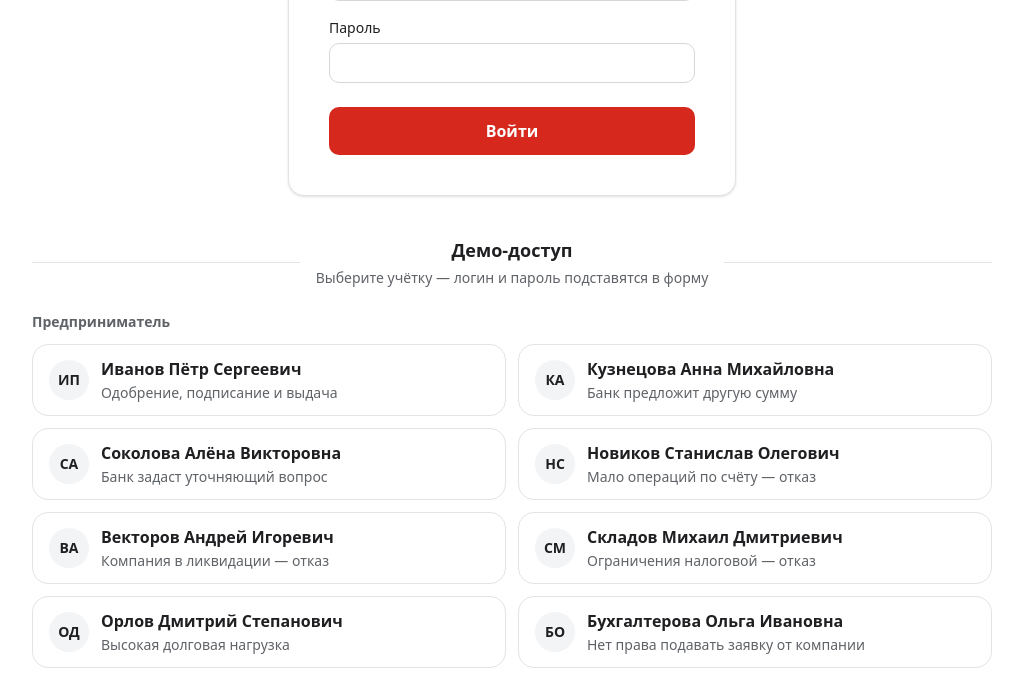
экран входа › «Выйти» появляется сразу после входа и уводит на экран входа
(page scrolled)
Expected: the button "Выйти" is not shown
Click the button "КА Кузнецова Анна Михайловна Банк предложит другую сумму": (755, 380) x1=518 y1=344 x2=992 y2=416
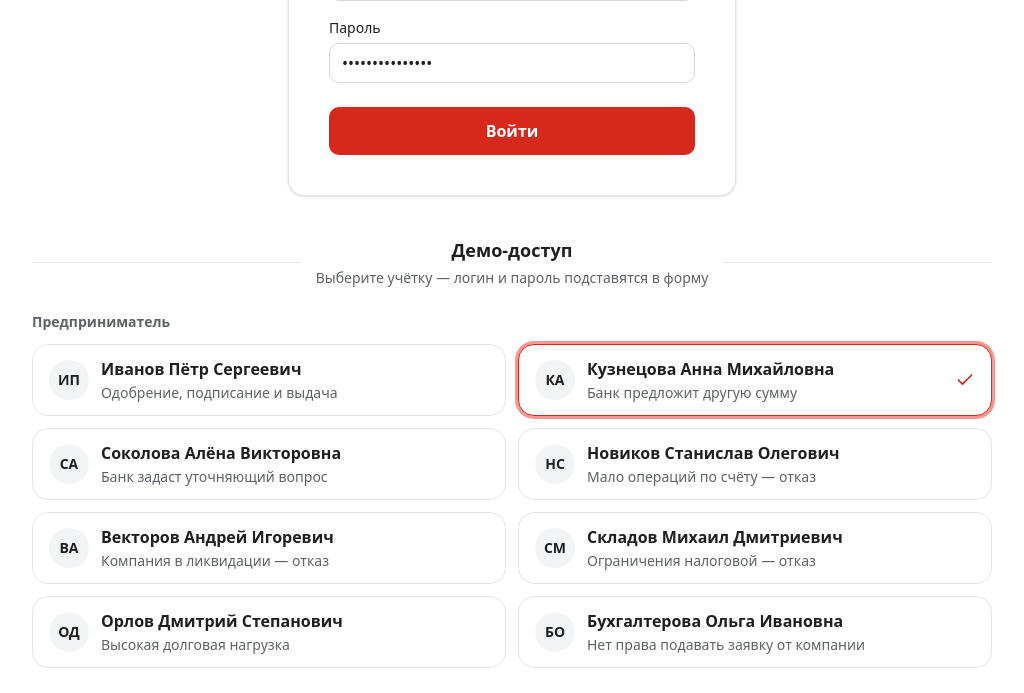
Click the button "Войти": (512, 131) x1=329 y1=107 x2=695 y2=155
(page scrolled)
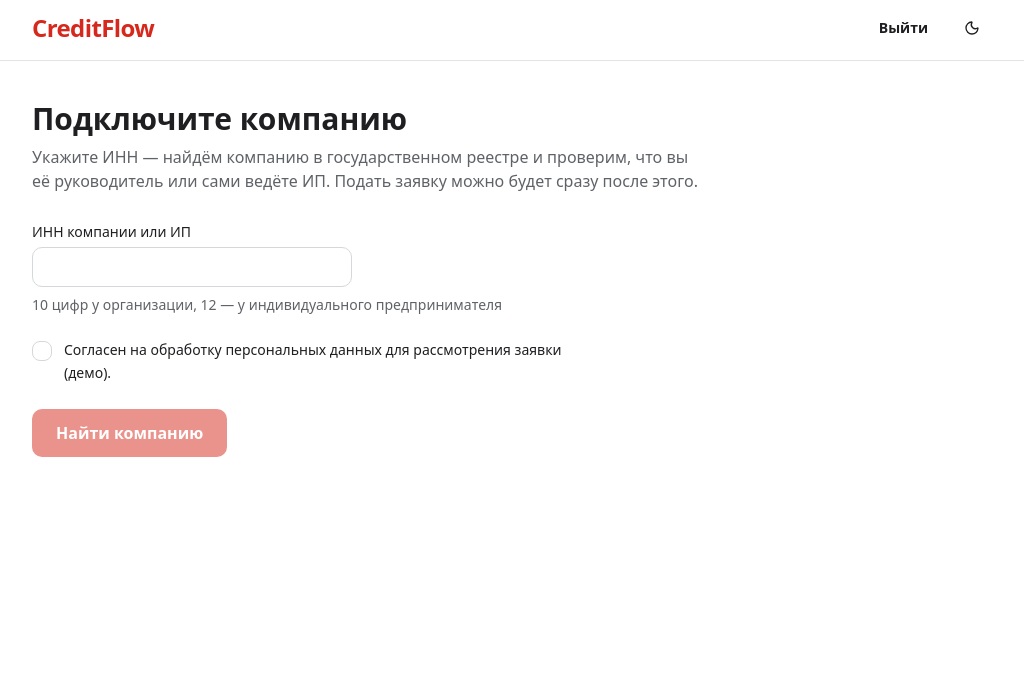
Expected: the heading "Подключите компанию" is shown, x1=32 y1=98 x2=407 y2=139
Click the button "Выйти": (903, 28) x1=863 y1=8 x2=944 y2=48
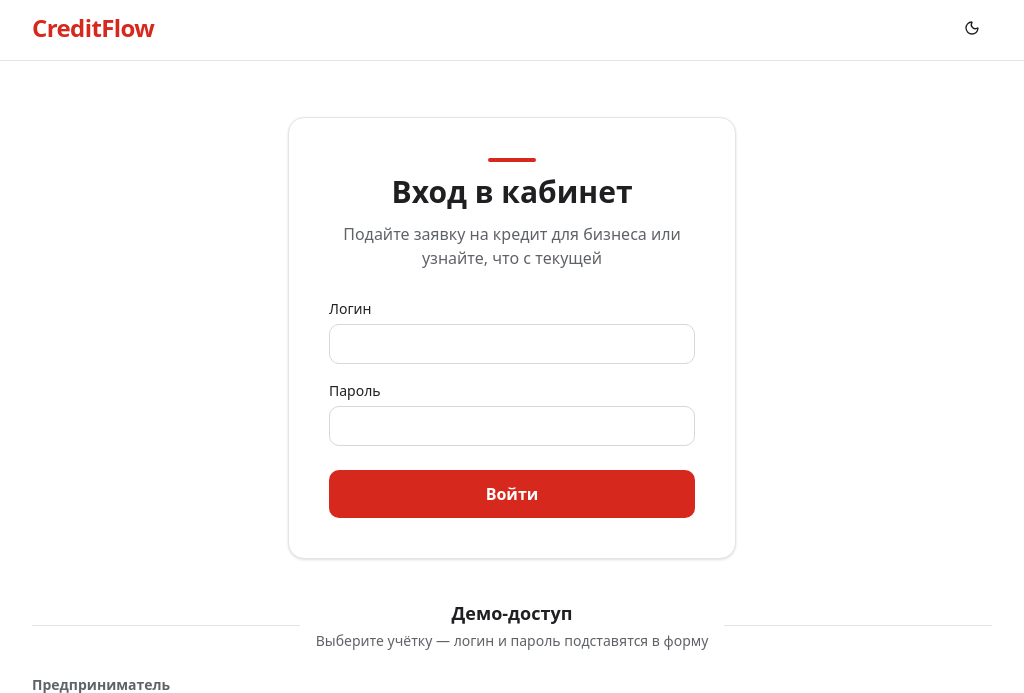
Expected: the button "Выйти" is gone
